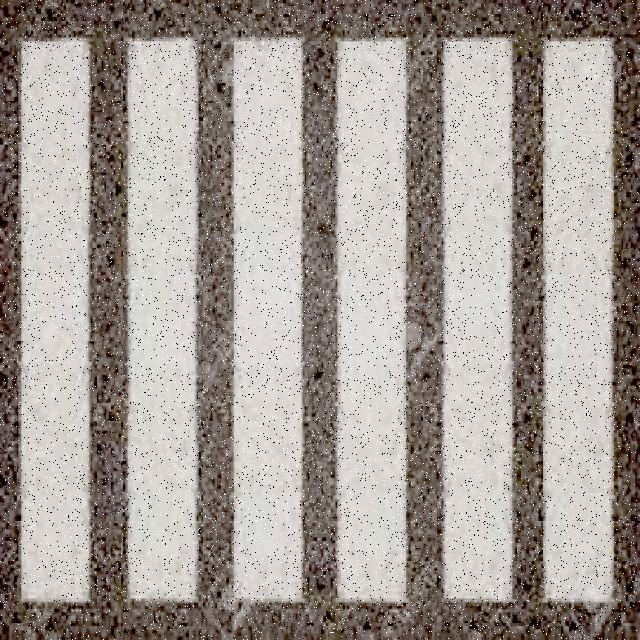Pedestrian crosswalk: (0, 34, 638, 634)
